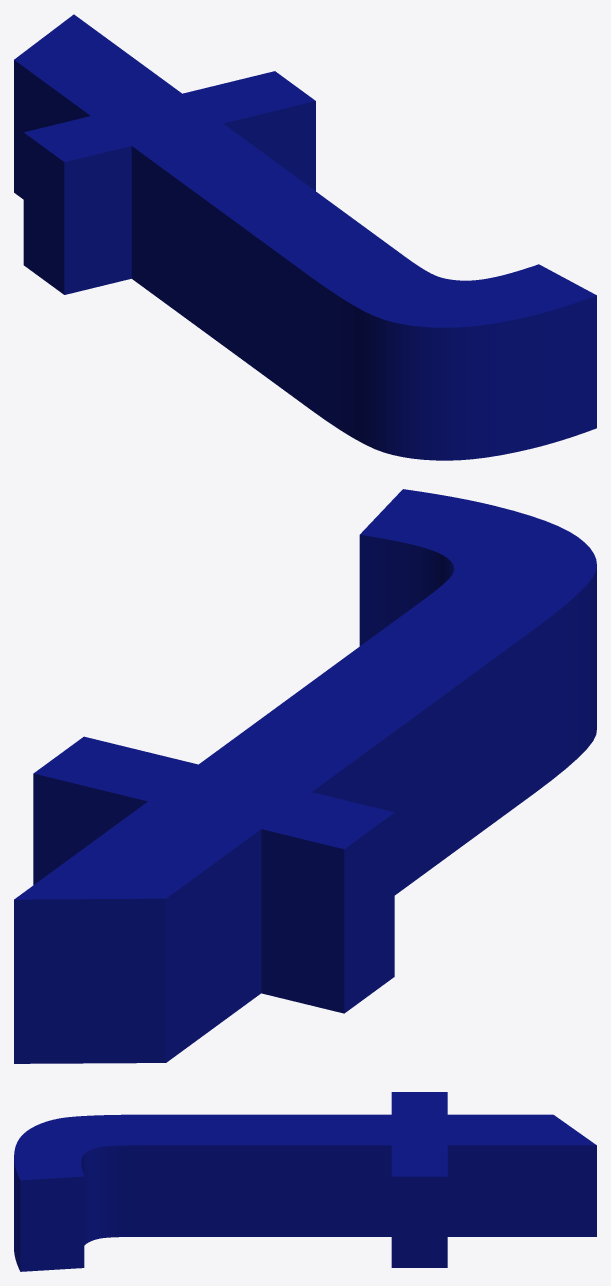
3 renders of one model, top to bottom at view 1: azimuth 30°, elevation 25°; view 2: azimuth 150°, elevation 25°; view 3: azimuth 270°, elevation 25°, orthographic. The views are drawn at different scales.
Visible parts, largest first — view 1: TextPlus046; view 2: TextPlus046; view 3: TextPlus046.
Boxes of the visible parts, x1,y1,x2,y2 form: TextPlus046: [14, 14, 596, 460]; TextPlus046: [14, 489, 596, 1063]; TextPlus046: [14, 1092, 596, 1271].
Size of the model in its own units: 9.08 by 4.38 by 25.32.
